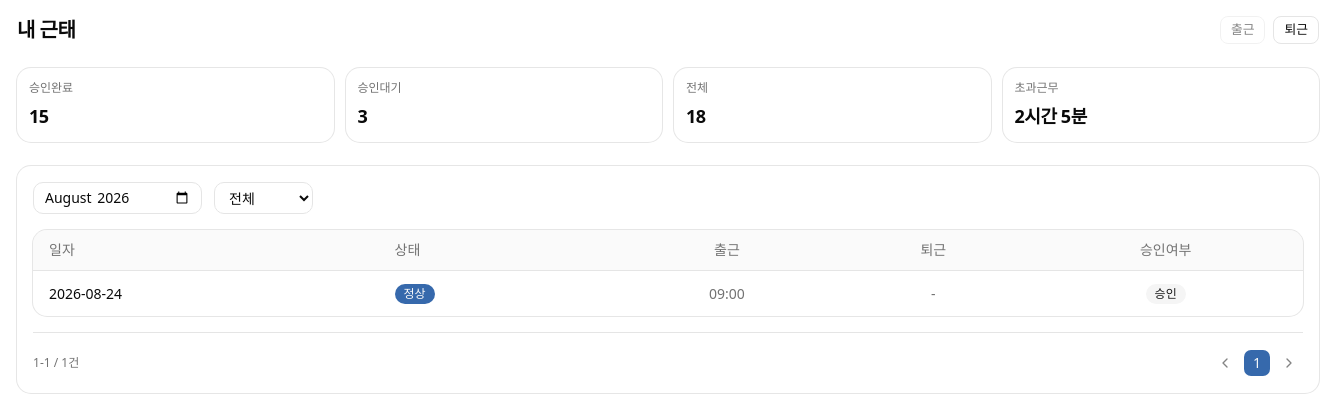
Test: MyAttendancePage (F302) - 퇴근 버튼 클릭 › "퇴근" 버튼 클릭 시 PATCH /api/employees/attendances/me/check-out 요청이 발생하고, 성공 후 목록이 재조회된다
This screenshot has width=1337, height=411.
Click the button "퇴근". click: x=1296, y=30
box: [1274,16,1319,44]
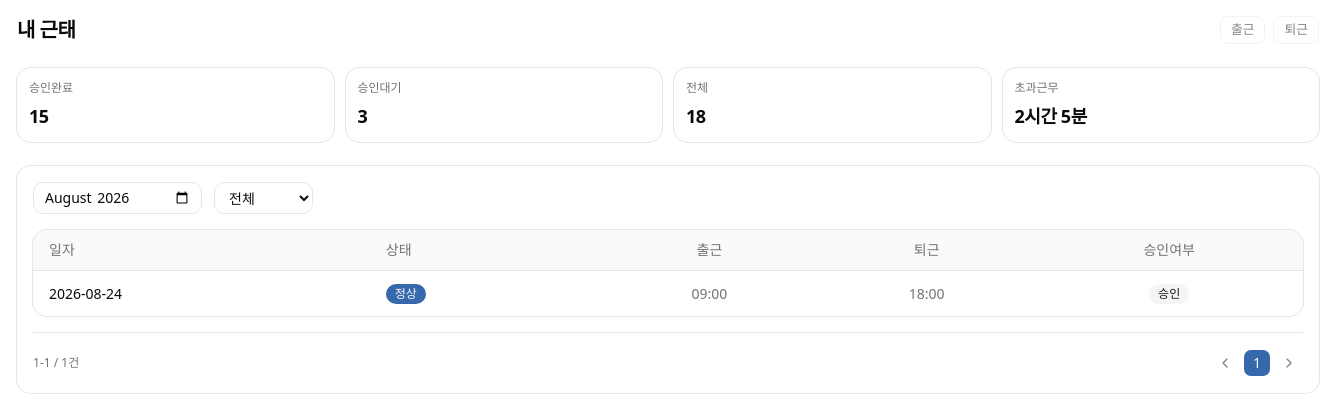
Check: the button "퇴근" is disabled, box [1274,16,1319,44]
